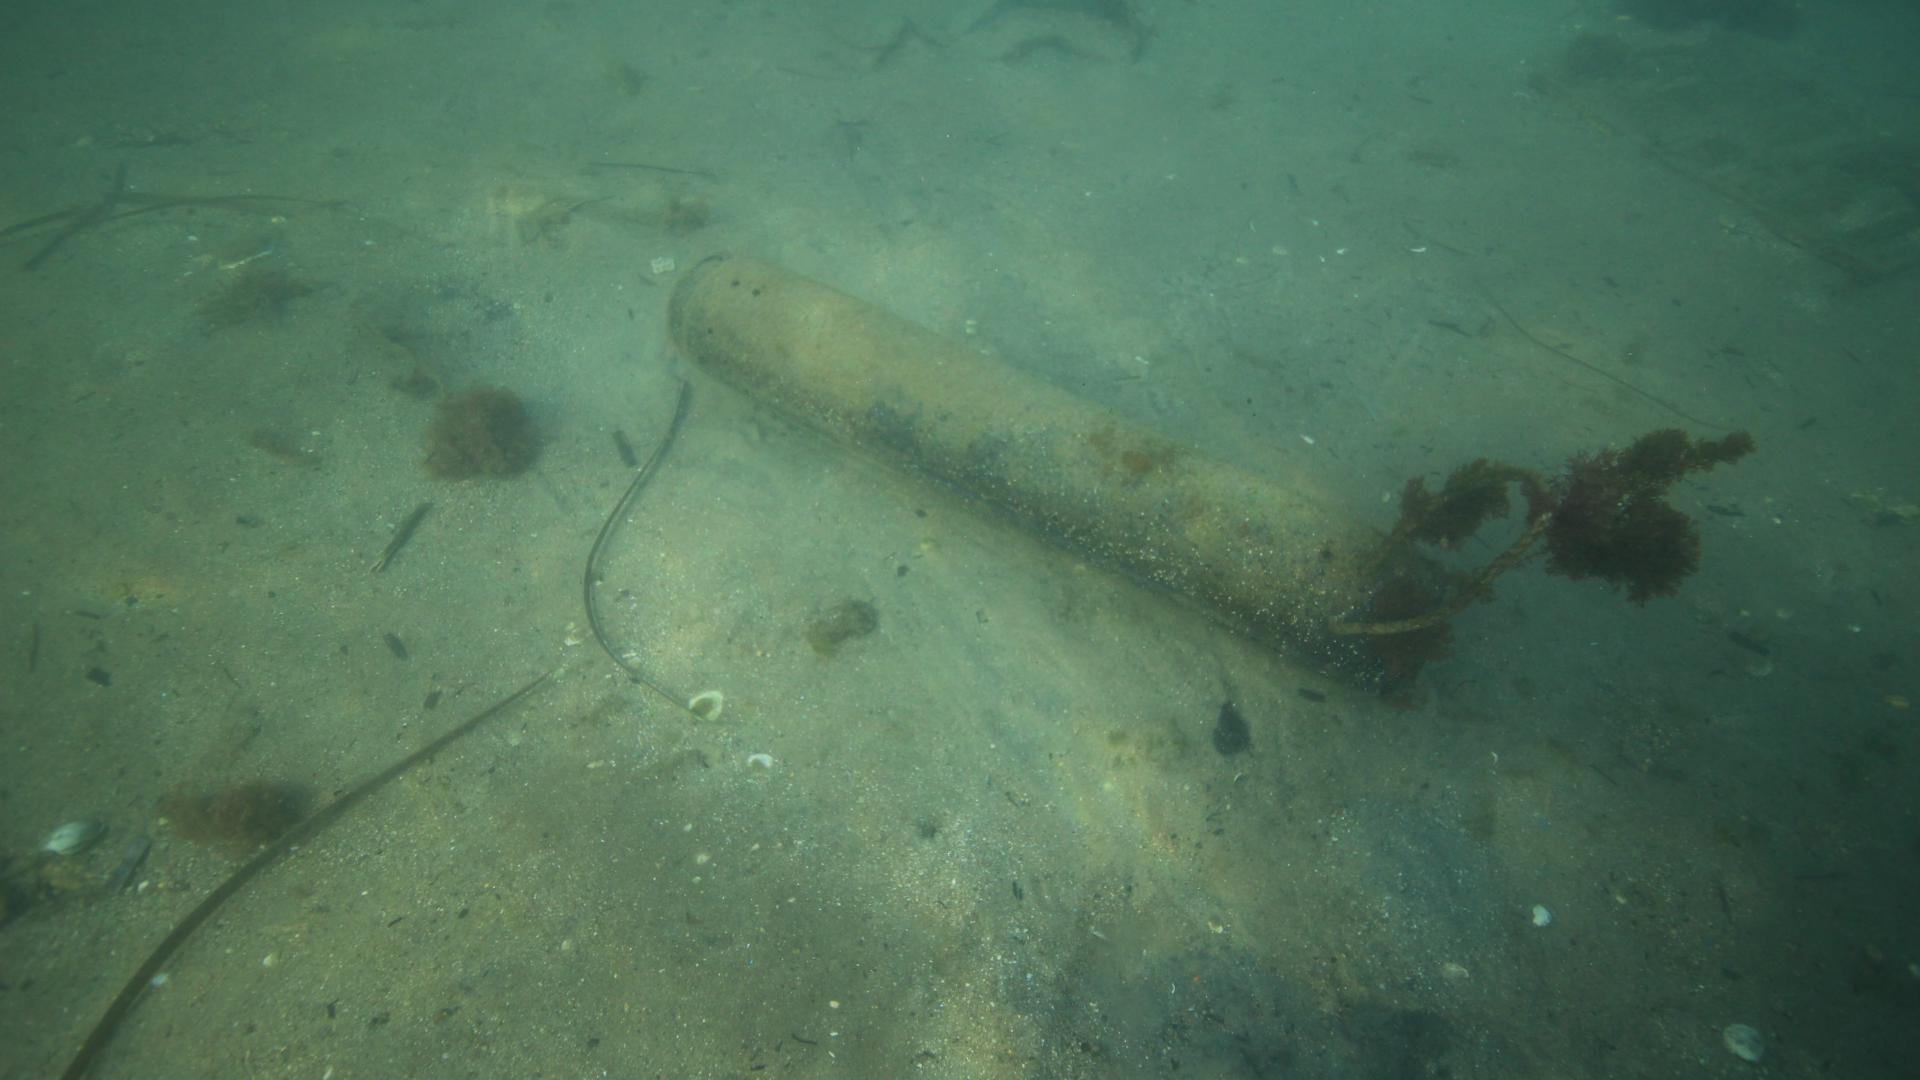bundle of ropes: (1337, 462, 1549, 637)
eel fish trap: (661, 247, 1451, 694)
